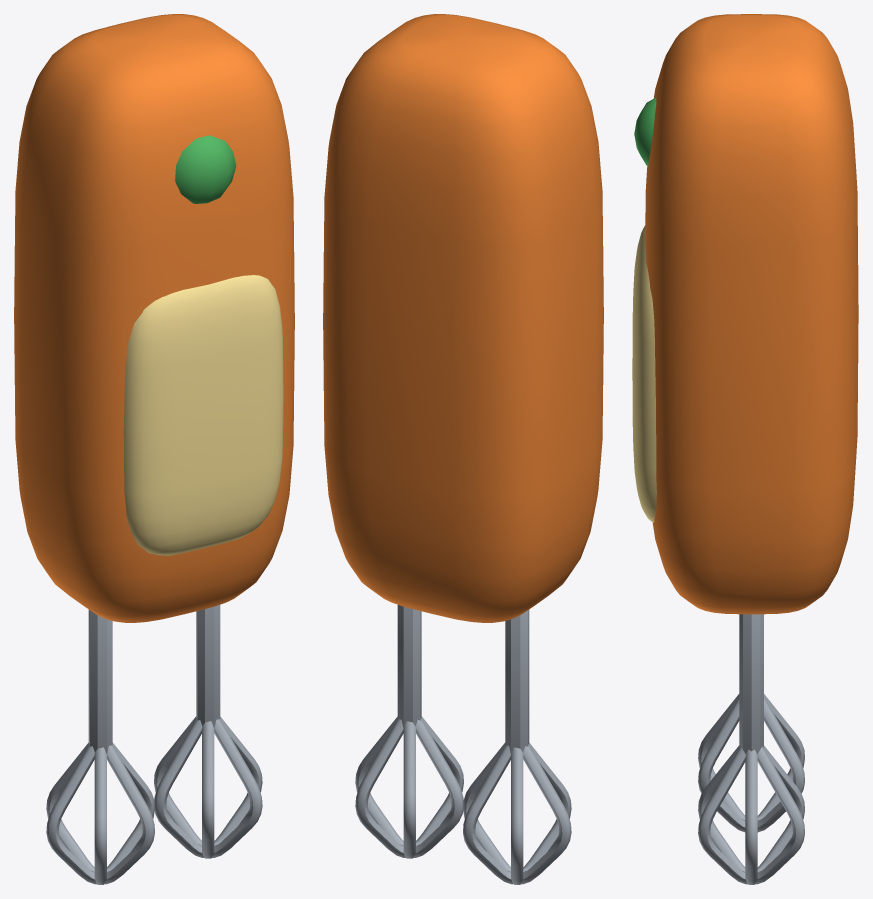
Rendered from batedeira_mao_laranja.glb.
3 renders of one model, left to right at view 1: azimuth 30°, elevation 25°; view 2: azimuth 150°, elevation 25°; view 3: azimuth 270°, elevation 25°, orthographic.
Parts seen in each view (by area): view 1: batedeira_mao_laranja; view 2: batedeira_mao_laranja; view 3: batedeira_mao_laranja.
Part boxes in pixels (<box>): batedeira_mao_laranja: <box>14,14,294,884</box>; batedeira_mao_laranja: <box>323,14,603,884</box>; batedeira_mao_laranja: <box>632,14,858,884</box>.
Bounding box in the file's own units: 0.085 × 0.296 × 0.074.
Materials: 1 (1 with a texture image).
